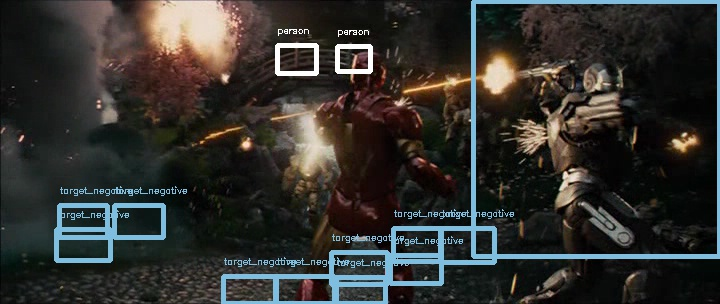person: (343, 46, 387, 92), (342, 46, 386, 92), (344, 46, 388, 92), (343, 45, 387, 91), (343, 47, 387, 93)
target_negative: (497, 80, 679, 228), (51, 54, 195, 181), (577, 101, 610, 237), (197, 192, 506, 206), (412, 175, 543, 193), (574, 6, 589, 86)
